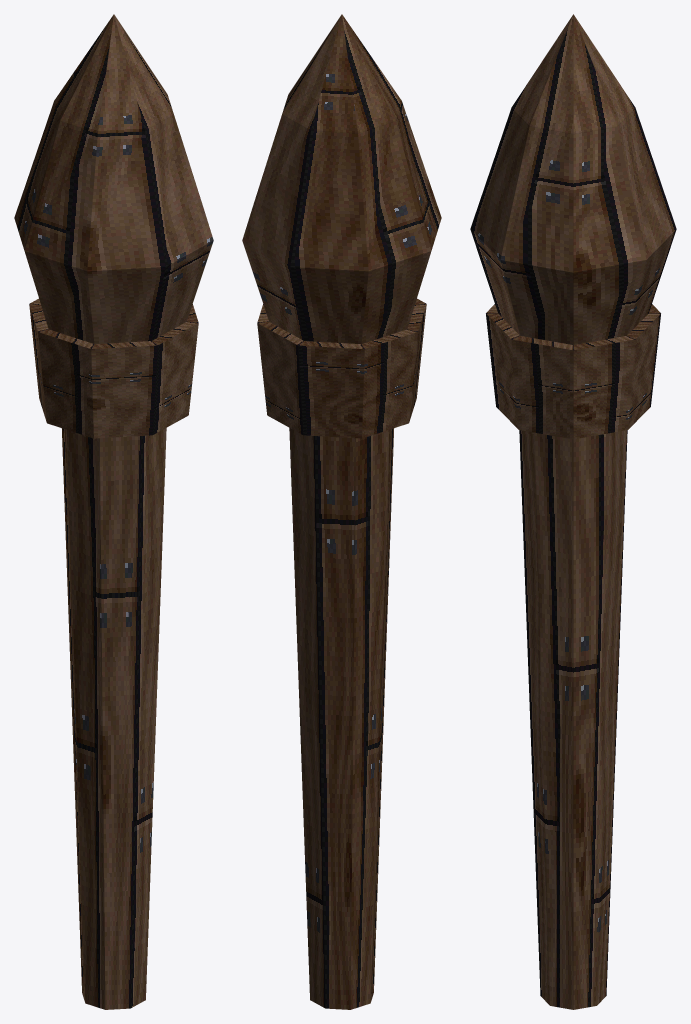
Rendered from prisao_tocha_apagada.glb.
3 views of the same model, side by side, from view 1: azimuth 30°, elevation 25°; view 2: azimuth 150°, elevation 25°; view 3: azimuth 270°, elevation 25° (orthographic).
Parts seen in each view (by area): view 1: prisao_tocha_apagada; view 2: prisao_tocha_apagada; view 3: prisao_tocha_apagada.
Part boxes in pixels (x1=…): prisao_tocha_apagada: x1=14, y1=14, x2=213, y2=1009; prisao_tocha_apagada: x1=242, y1=14, x2=441, y2=1009; prisao_tocha_apagada: x1=470, y1=14, x2=676, y2=1009.
Size of the model in its own units: 0.2 by 1.05 by 0.2.
Materials: 1 (1 with a texture image).
